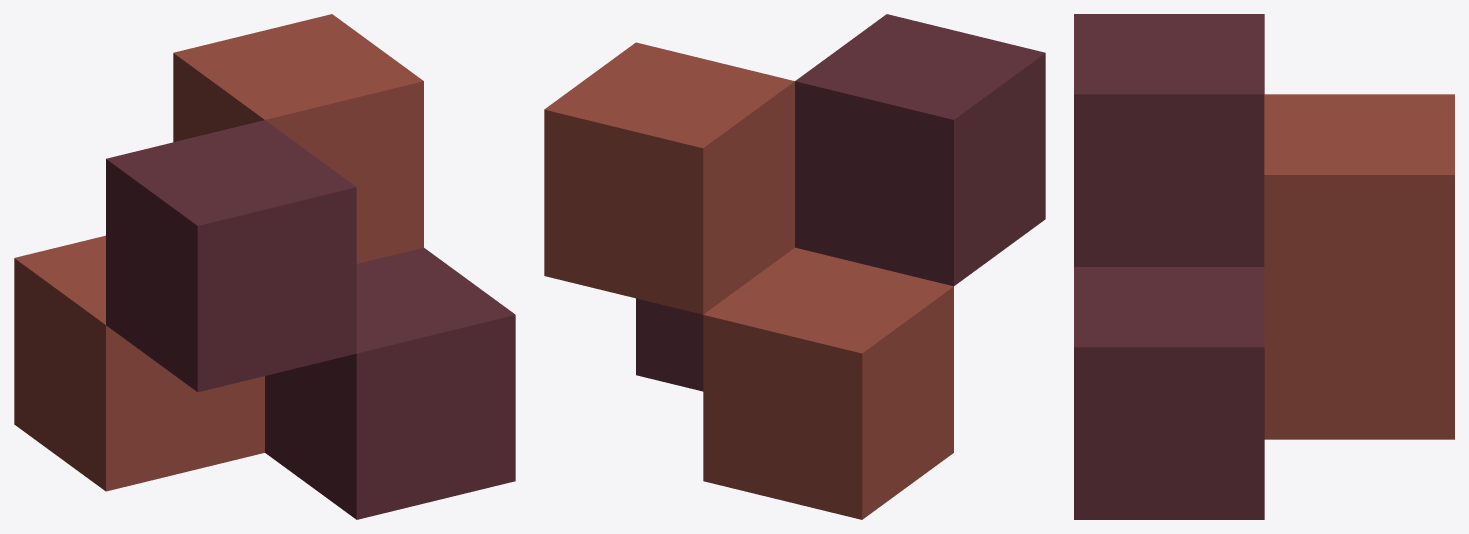
Rendered from NB_TR_F_Braid_Test_5.fbx.
The picture shows the model from 3 angles, left to right: view 1: azimuth 30°, elevation 25°; view 2: azimuth 150°, elevation 25°; view 3: azimuth 270°, elevation 25°; orthographic projection. The views are drawn at different scales.
Visible parts, largest first — view 1: Braid_Test_5; view 2: Braid_Test_5; view 3: Braid_Test_5.
Boxes of the visible parts, x1,y1,x2,y2 form: Braid_Test_5: [14, 14, 515, 519]; Braid_Test_5: [544, 14, 1045, 519]; Braid_Test_5: [1074, 14, 1454, 519].
Bounding box in the file's own units: 2 × 2 × 2.
1 material, 1 textured.
